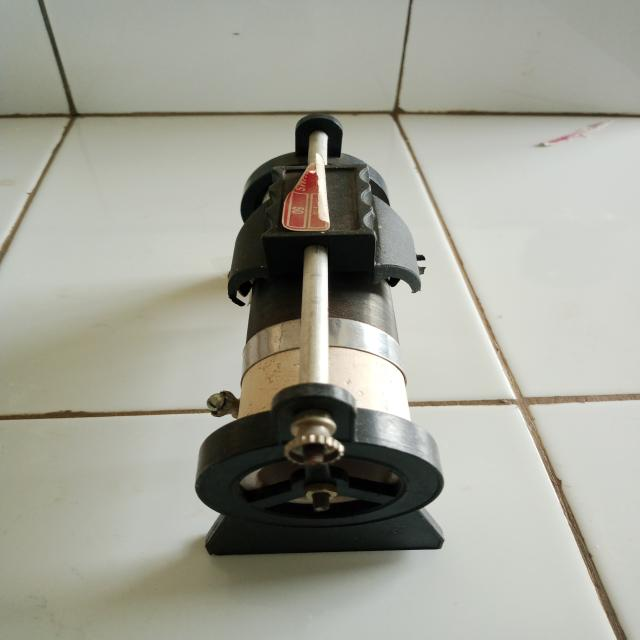Rheostat: (153, 101, 466, 572)
